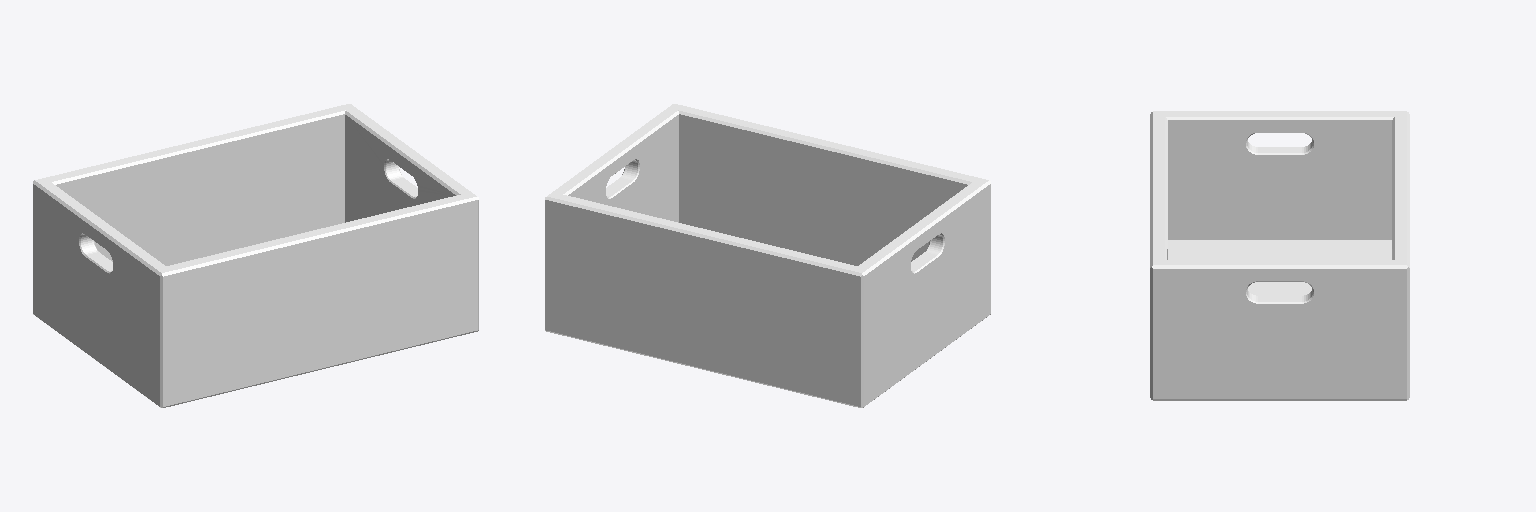
Rendered from woodenbox.obj.
3 renders of one model, left to right at view 1: azimuth 30°, elevation 25°; view 2: azimuth 150°, elevation 25°; view 3: azimuth 270°, elevation 25°, orthographic.
Visible parts, largest first — view 1: woodenboxmesh; view 2: woodenboxmesh; view 3: woodenboxmesh.
Part boxes in pixels (x1,y1,x2,y2): woodenboxmesh: (33, 104, 478, 407); woodenboxmesh: (545, 104, 990, 407); woodenboxmesh: (1150, 111, 1409, 400).
Size of the model in its own units: 2.01 by 0.8141 by 1.41.